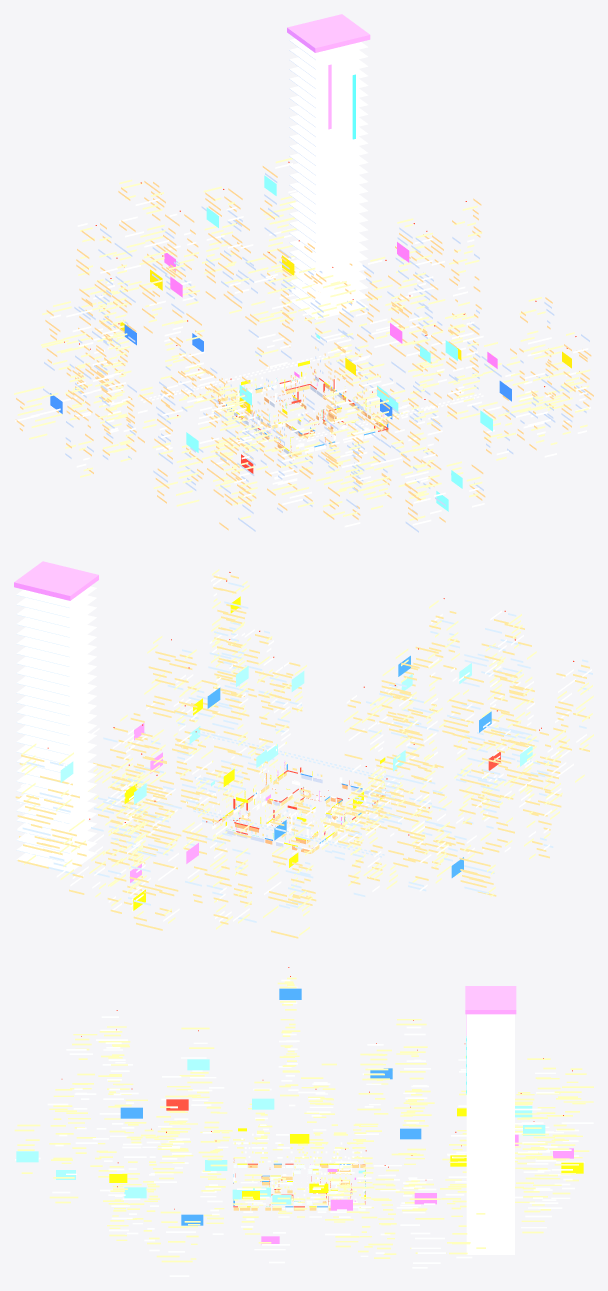
Rendered from gj-neon.glb.
The picture shows the model from 3 angles, top to bottom: view 1: azimuth 30°, elevation 25°; view 2: azimuth 150°, elevation 25°; view 3: azimuth 270°, elevation 25°; orthographic projection. The views are drawn at different scales.
Parts seen in each view (by area): view 1: gj-neon; view 2: gj-neon; view 3: gj-neon.
Part boxes in pixels (<box>): gj-neon: <box>14,14,593,532</box>; gj-neon: <box>14,561,593,938</box>; gj-neon: <box>14,967,593,1276</box>.
Size of the model in its own units: 294 by 173 by 364.
